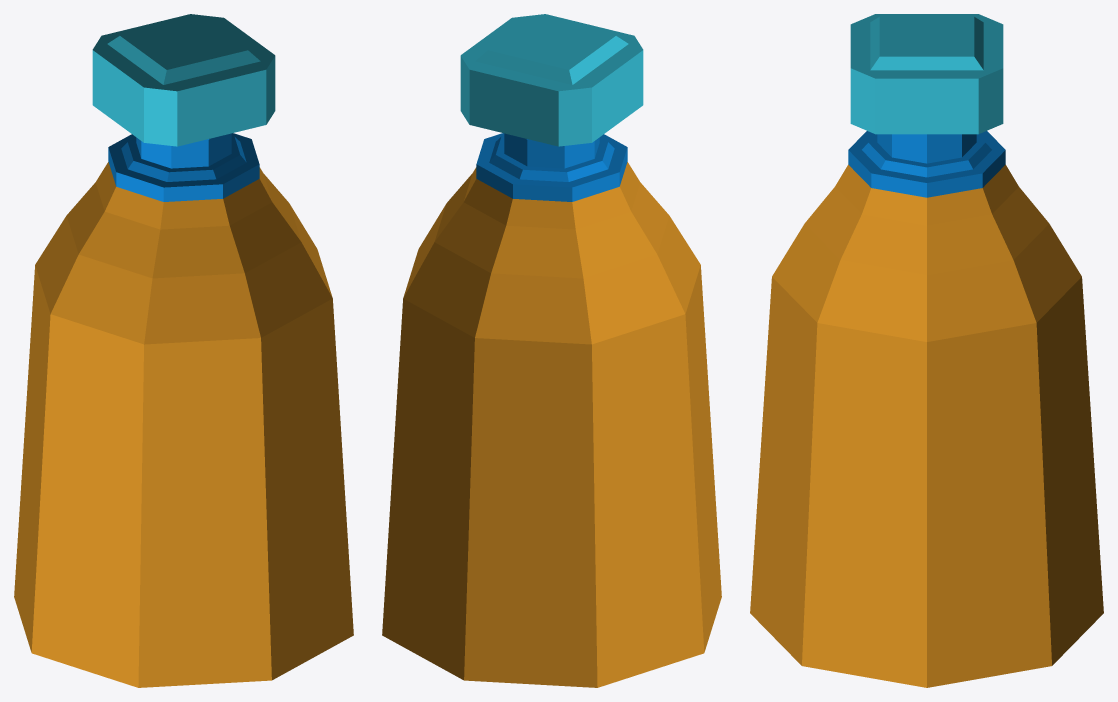
The model's file is Bottle 10.fbx.
The picture shows the model from 3 angles, left to right: view 1: azimuth 30°, elevation 25°; view 2: azimuth 150°, elevation 25°; view 3: azimuth 270°, elevation 25°; orthographic projection.
Visible parts, largest first — view 1: Node 0; view 2: Node 0; view 3: Node 0.
Part boxes in pixels (bbox=[...]): Node 0: bbox=[14, 14, 353, 687]; Node 0: bbox=[382, 14, 721, 687]; Node 0: bbox=[750, 14, 1103, 687].
Size of the model in its own units: 0.1947 by 0.3501 by 0.1947.
